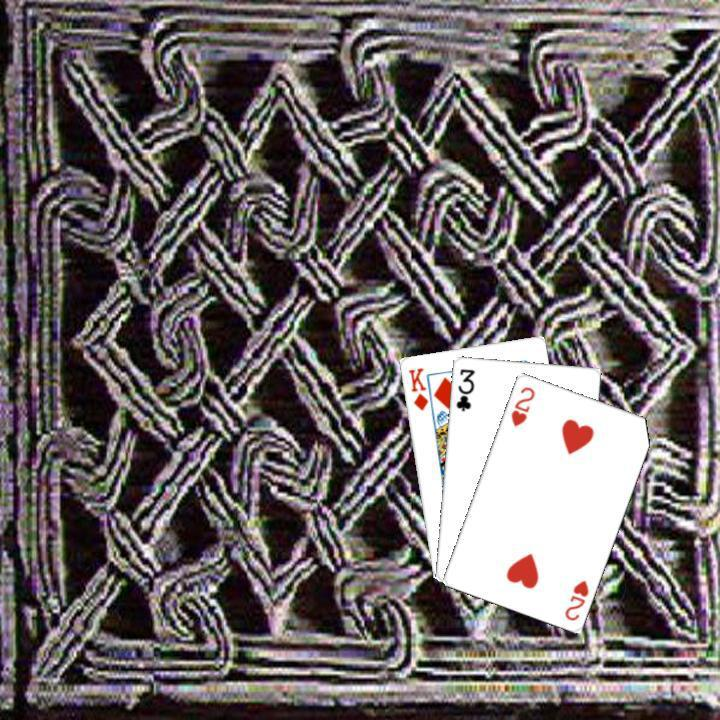2: (506, 382, 537, 428), (560, 575, 590, 622)
3: (451, 364, 476, 413)
K: (404, 363, 430, 413)
